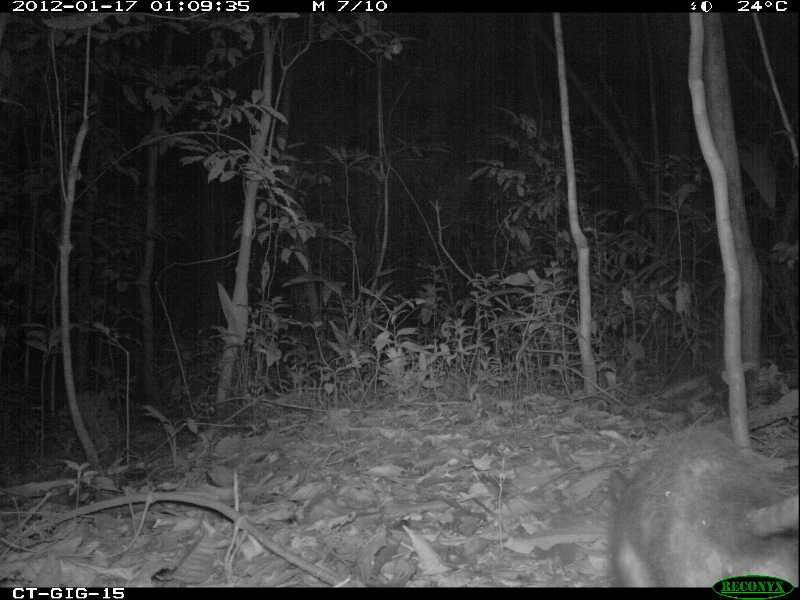opossum: (595, 423, 799, 578)
